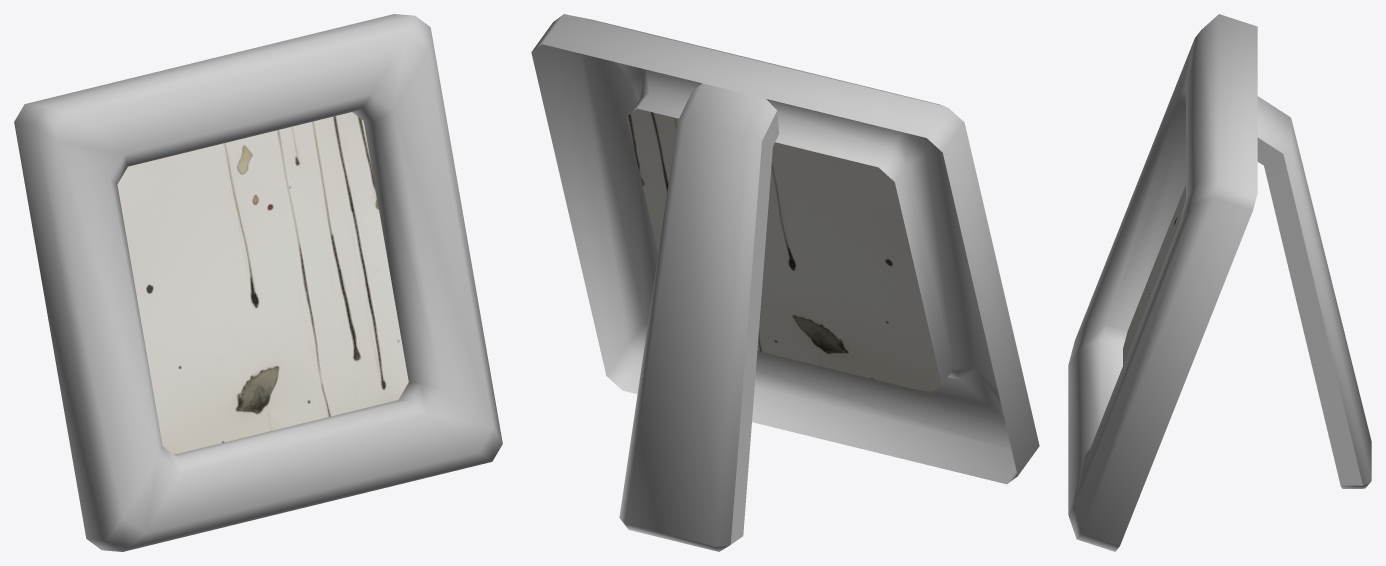
Rendered from Photo_1.fbx.
The picture shows the model from 3 angles, left to right: view 1: azimuth 30°, elevation 25°; view 2: azimuth 150°, elevation 25°; view 3: azimuth 270°, elevation 25°; orthographic projection. The views are drawn at different scales.
Parts seen in each view (by area): view 1: Photo_1; view 2: Photo_1; view 3: Photo_1.
Boxes of the visible parts, box(x1,y1,x2,y2) form: Photo_1: box(14, 14, 502, 551); Photo_1: box(531, 14, 1039, 551); Photo_1: box(1068, 14, 1371, 551).
Size of the model in its own units: 13.26 by 12.94 by 9.56.
